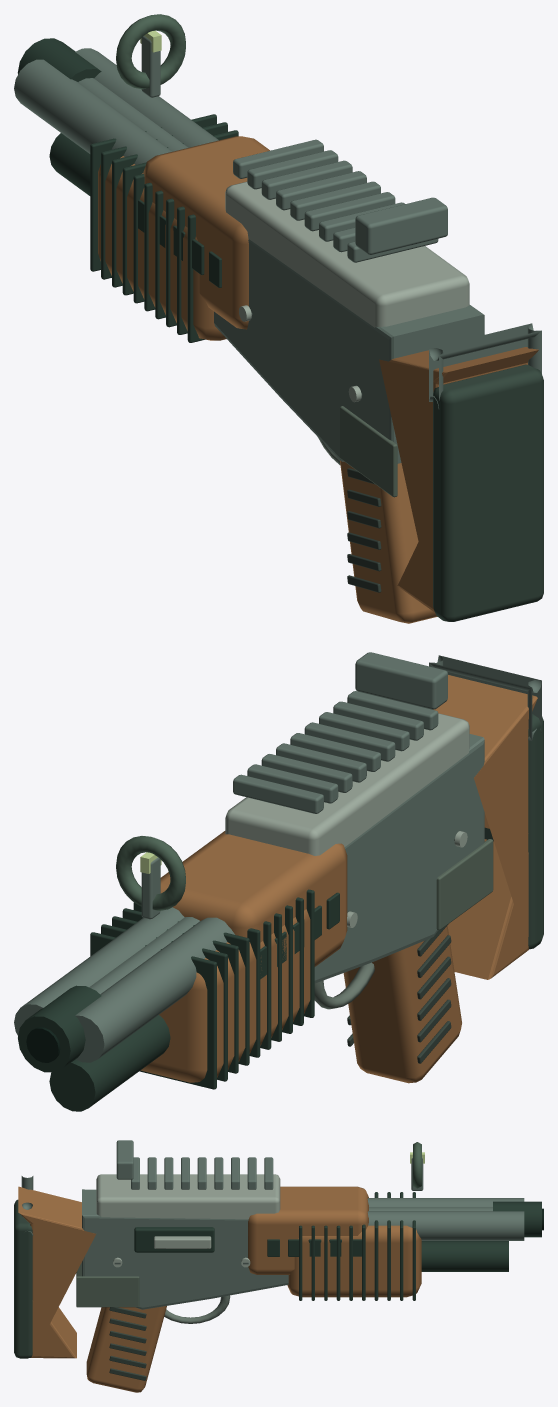
File: sawedoff.glb
3 views of the same model, one above another, from view 1: azimuth 30°, elevation 25°; view 2: azimuth 150°, elevation 25°; view 3: azimuth 270°, elevation 25° (orthographic). The views are drawn at different scales.
Parts seen in each view (by area): view 1: sawedoff, pump; view 2: sawedoff, pump; view 3: sawedoff, pump, bolt.
Boxes of the visible parts, x1,y1,x2,y2 form: sawedoff: (14,14,543,623); pump: (90,114,238,342); sawedoff: (14,652,543,1111); pump: (90,889,314,1089); sawedoff: (14,1140,543,1392); pump: (287,1192,421,1300); bolt: (134,1227,214,1252).
Size of the model in its own units: 0.151 by 0.4657 by 0.9225.
